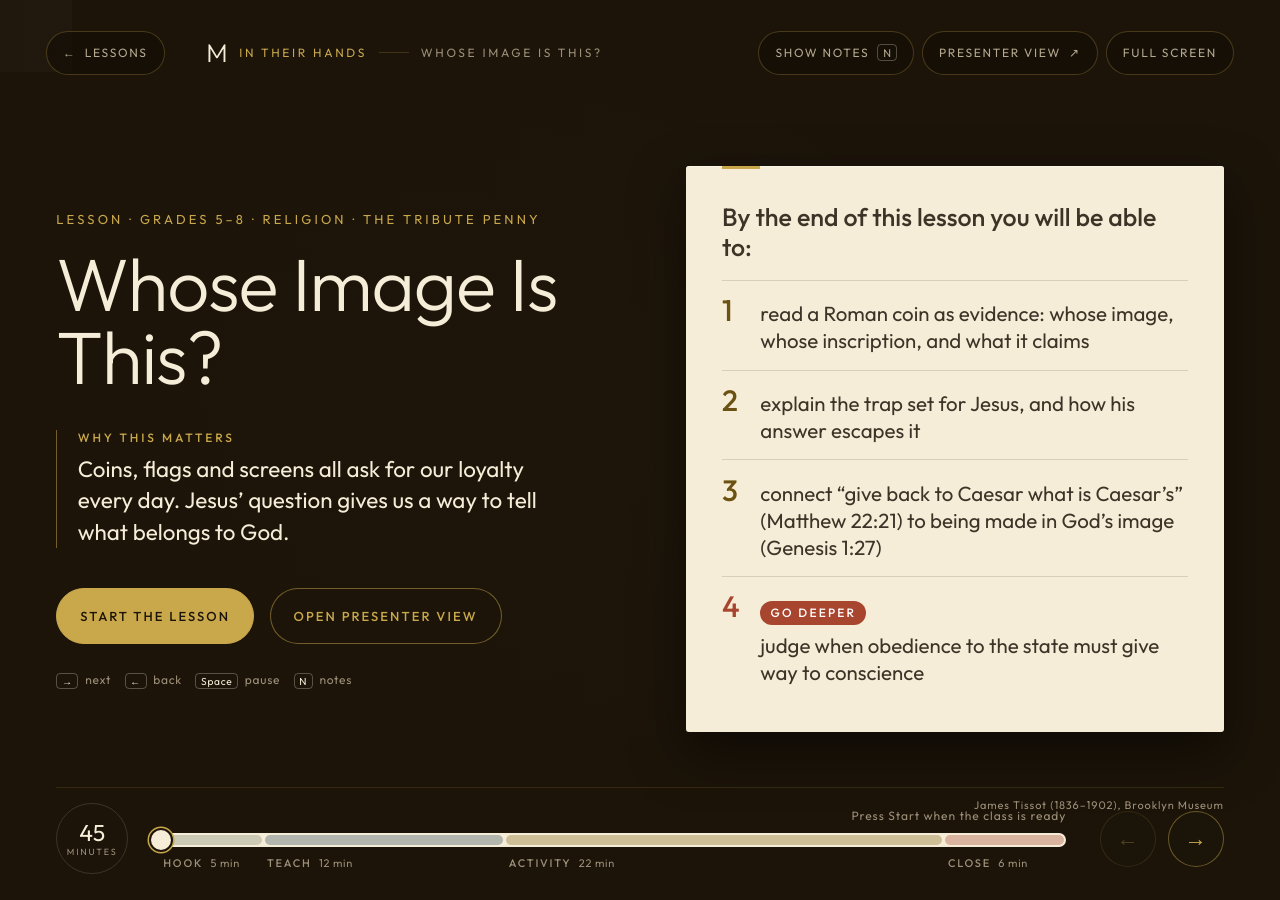
Scenario: Lesson mode classroom view › gives each step a task for students, and the notes say why
Click the button "Start the lesson" at (155, 616), box [56,588,254,644]
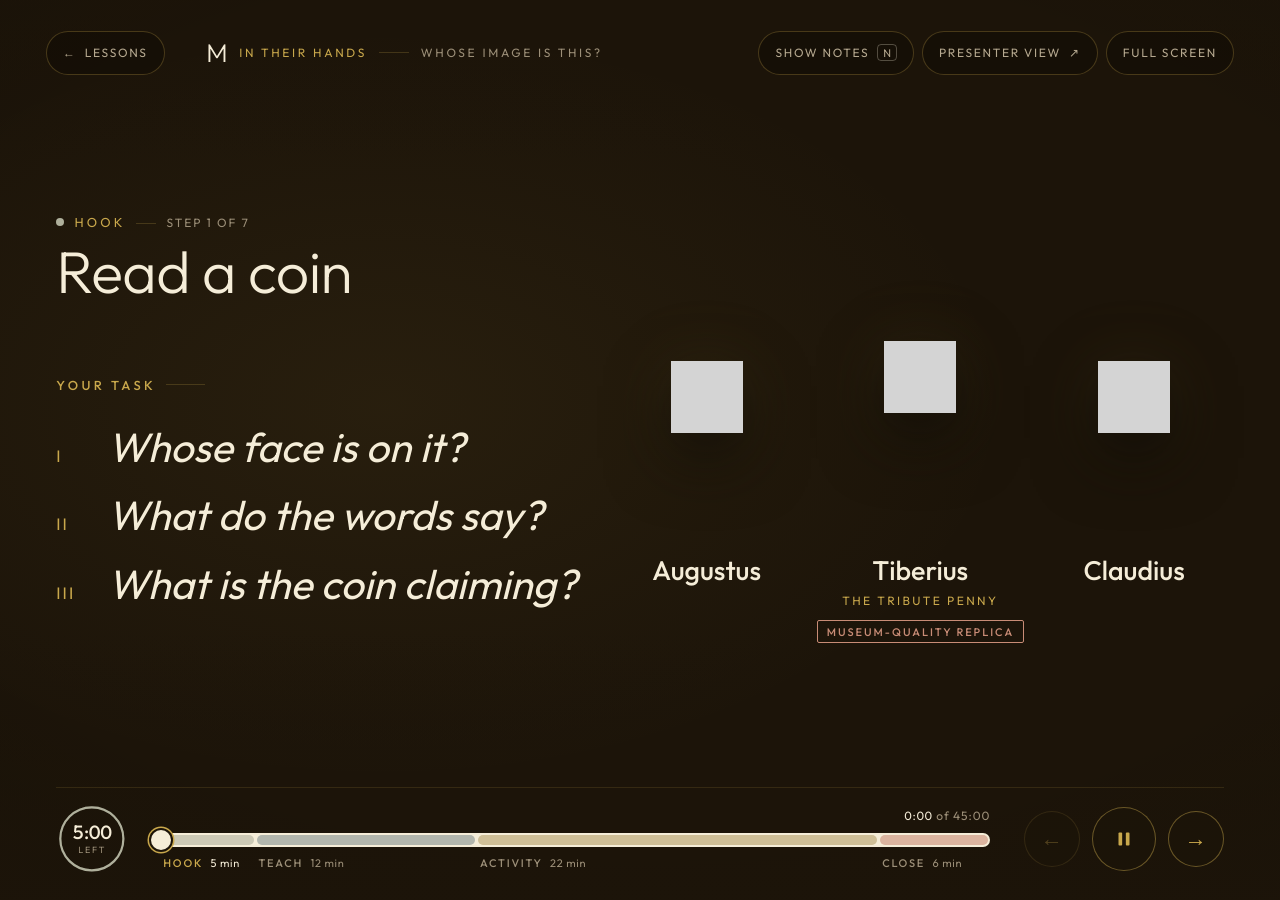
Result: the heading "Your task" is shown at [56,377,156,393]
Result: the text "Whose face is on it?" is shown at [108,420,465,472]
Result: the text "Augustus" is shown at [652,557,761,584]
Press n
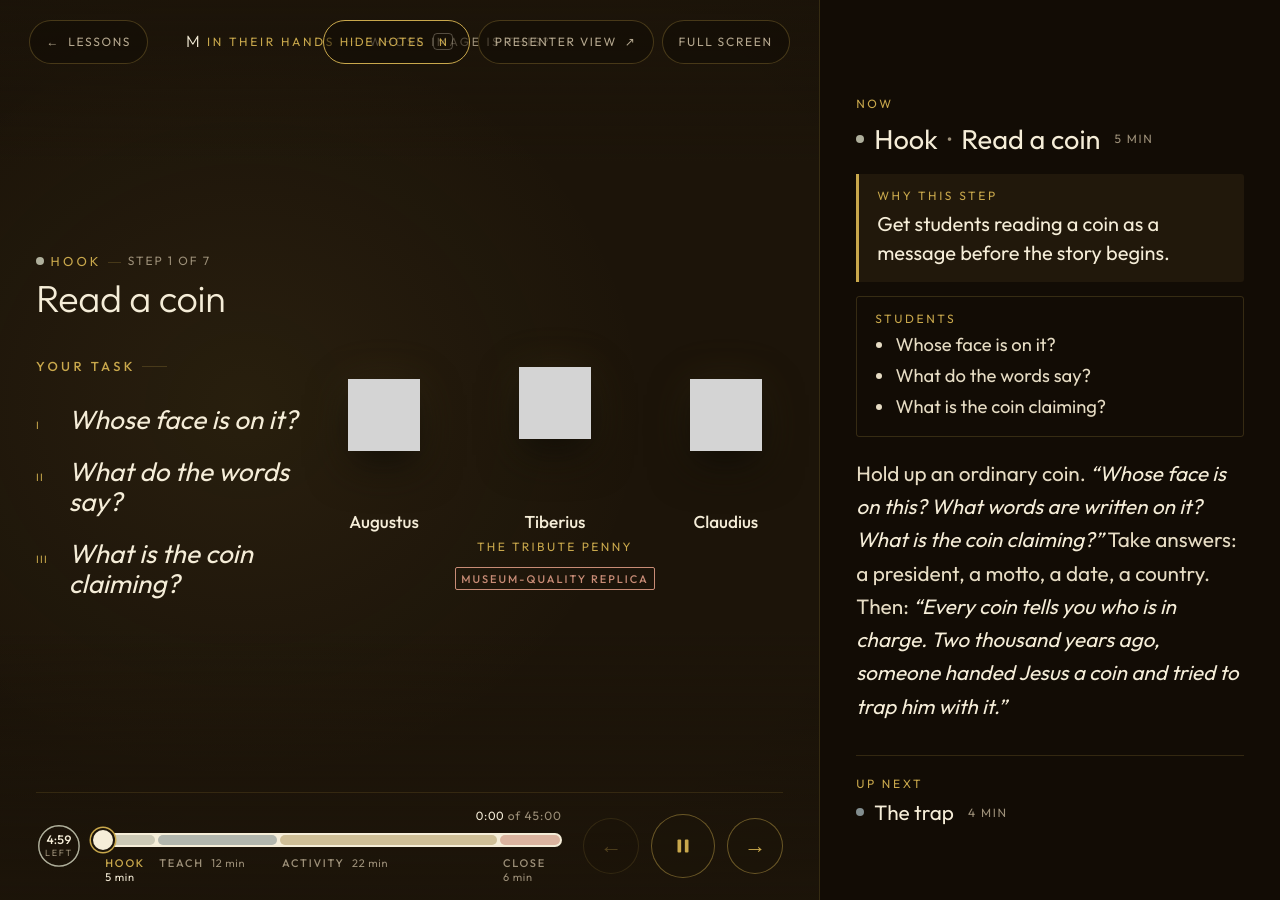
Result: the element named "Teacher notes" shows "Why this step" at [877,188,998,203]
Result: the element named "Teacher notes" shows "Get students reading a coin as a message" at [877,211,1170,265]
